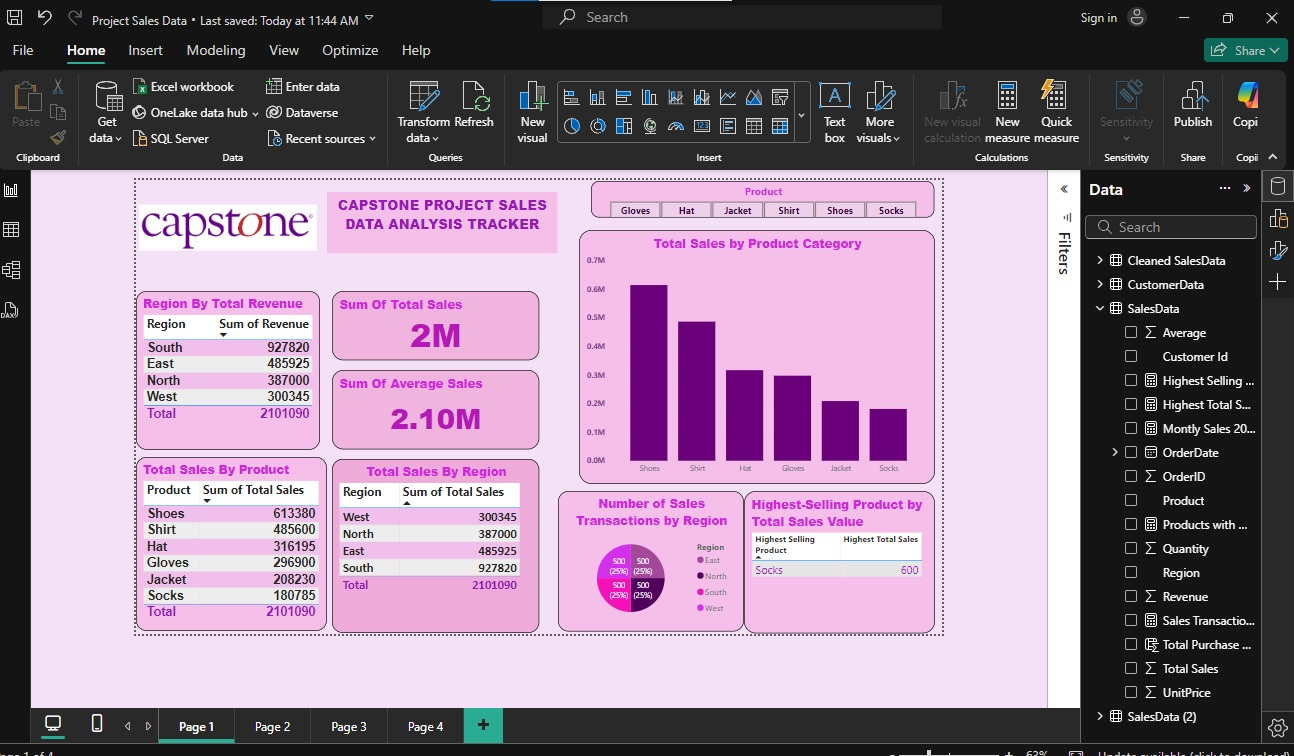

The page's visual inventory and layout, read from the dashboard file:
{"tool":"powerbi","page":{"name":"Page 1","canvas":[1280,720],"ordinal":0},"visuals":[{"type":"card","title":"Sum Of Total Sales","fields":{"Values":["Sum(SalesData.Total Sales)"]},"box":[311.3,175.8,329,109.7],"z":0},{"type":"tableEx","title":"Total Sales By Region","fields":{"Values":["SalesData.Region","Sum(SalesData.Total Sales)"]},"box":[311.3,443.5,329,275.8],"z":1000},{"type":"tableEx","title":"Total Sales By Product","fields":{"Values":["SalesData.Product","Sum(SalesData.Total Sales)"]},"box":[0,440.3,303.2,275.8],"z":2000},{"type":"tableEx","title":"Region By Total Revenue","fields":{"Values":["SalesData.Region","Sum(SalesData.Revenue)"]},"box":[0,175.8,291.9,251.6],"z":3000},{"type":"card","title":"Sum Of Average Sales","fields":{"Values":["Sum(SalesData.Average)"]},"box":[311.3,301.6,329,125.8],"z":4000},{"type":"clusteredColumnChart","title":"Total Sales by Product Category","fields":{"Category":["SalesData.Product"],"Y":["Sum(SalesData.Total Sales)"]},"box":[703.2,79,564.5,403.2],"z":5000},{"type":"tableEx","title":"Highest-Selling Product by Total Sales Value","fields":{"Values":["SalesData.Highest Selling Product","SalesData.Highest Total Sales"]},"box":[964.5,493.5,303.2,225.8],"z":6000},{"type":"pieChart","title":"Number of Sales Transactions by Region","fields":{"Category":["SalesData.Region"],"Y":["SalesData.Sales Transactions per Region"]},"box":[669.4,493.5,295.2,222.6],"z":7000},{"type":"textbox","box":[303.2,19.4,366.1,96.8],"z":8000},{"type":"slicer","title":"Product","fields":{"Values":["SalesData.Product"]},"box":[722.6,1.6,545.2,58.1],"z":9000},{"type":"image","box":[0,0,292,150],"z":10000}]}

Visuals, with their boxes on the page's 1280x720 design canvas (x1, y1, x2, y2). These are canvas units, not pixel positions in the 1294x756 screenshot, which may show the page scaled, cropped or inside an application window:
"Sum Of Total Sales" card: x1=311 y1=176 x2=640 y2=286
"Total Sales By Region" tableEx: x1=311 y1=444 x2=640 y2=719
"Total Sales By Product" tableEx: x1=0 y1=440 x2=303 y2=716
"Region By Total Revenue" tableEx: x1=0 y1=176 x2=292 y2=427
"Sum Of Average Sales" card: x1=311 y1=302 x2=640 y2=427
"Total Sales by Product Category" clusteredColumnChart: x1=703 y1=79 x2=1268 y2=482
"Highest-Selling Product by Total Sales Value" tableEx: x1=964 y1=494 x2=1268 y2=719
"Number of Sales Transactions by Region" pieChart: x1=669 y1=494 x2=965 y2=716
textbox: x1=303 y1=19 x2=669 y2=116
"Product" slicer: x1=723 y1=2 x2=1268 y2=60
image: x1=0 y1=0 x2=292 y2=150
